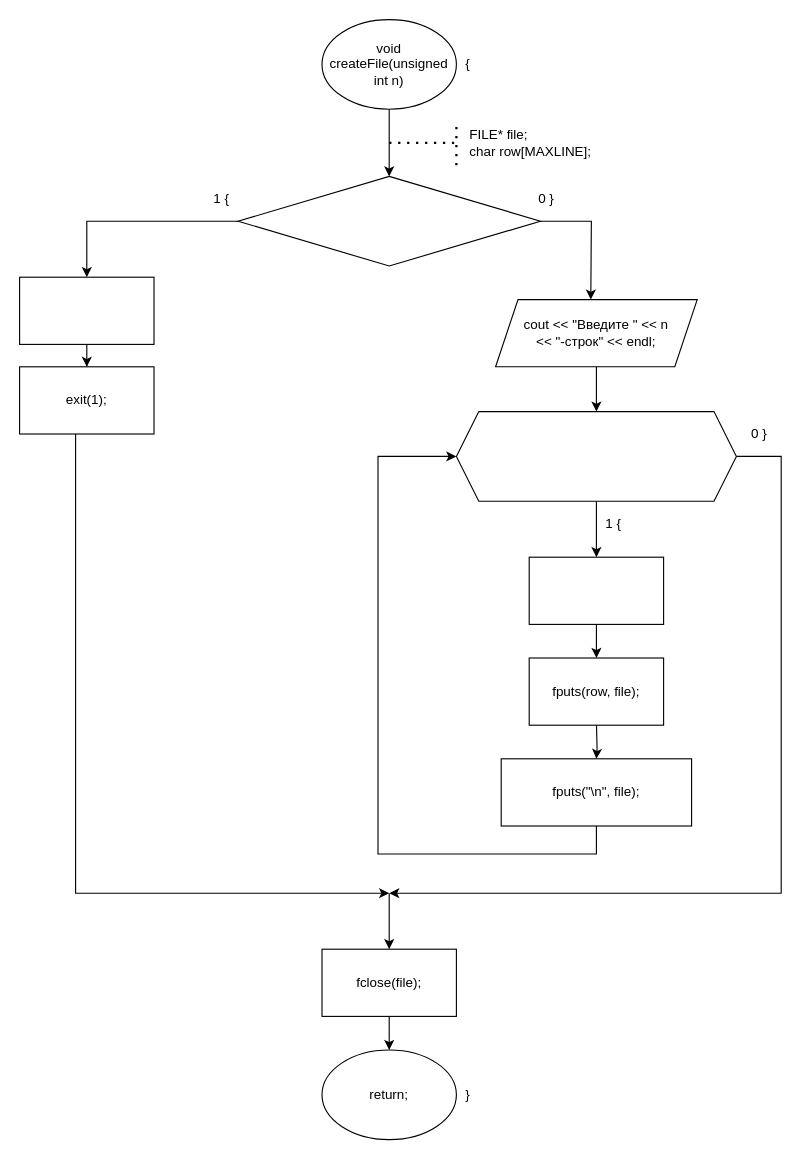
The diagram is 810 pixels wide and 1159 high, and some of its shapes have lost their labels. The centre of each missing label's shape, as x and y in pixels:
cin.getline(row, MAXLINE);: point (596, 590)
cout << "Ошибка";: point (86, 310)
for (unsigned int i = 1; i <= n; ++i): point (595, 455)
if ((file = fopen(filename, "wb")) == NULL): point (388, 220)
